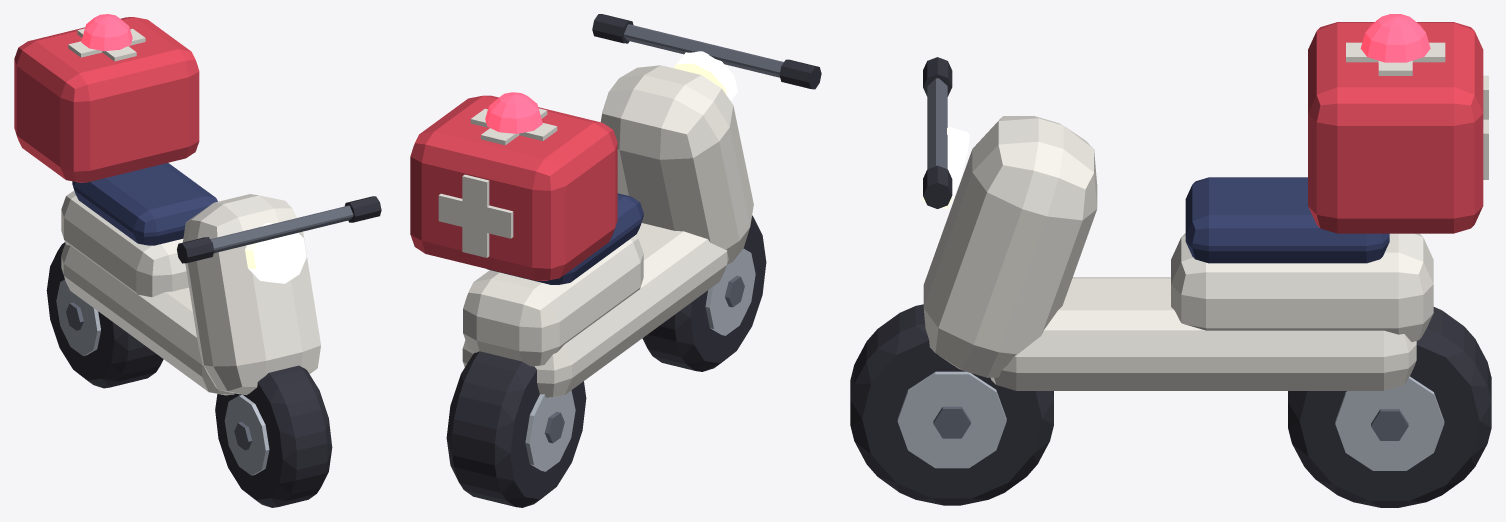
The model's file is veh_moto_medic.glb.
3 renders of one model, left to right at view 1: azimuth 30°, elevation 25°; view 2: azimuth 150°, elevation 25°; view 3: azimuth 270°, elevation 25°, orthographic. The views are drawn at different scales.
Parts seen in each view (by area): view 1: veh_moto_medic, wheel_f, wheel_r, siren_l; view 2: veh_moto_medic, wheel_r, wheel_f, siren_l; view 3: veh_moto_medic, wheel_f, wheel_r, siren_l.
Part boxes in pixels (bbox=[...]): veh_moto_medic: bbox=[14, 17, 381, 395]; wheel_f: bbox=[215, 365, 332, 507]; wheel_r: bbox=[46, 242, 163, 388]; siren_l: bbox=[81, 14, 132, 51]; veh_moto_medic: bbox=[410, 14, 821, 397]; wheel_r: bbox=[446, 351, 586, 507]; wheel_f: bbox=[642, 215, 766, 371]; siren_l: bbox=[485, 92, 542, 133]; veh_moto_medic: bbox=[922, 22, 1488, 390]; wheel_f: bbox=[850, 304, 1053, 505]; wheel_r: bbox=[1288, 307, 1491, 507]; siren_l: bbox=[1360, 14, 1430, 62].
Size of the model in its own units: 1.02 by 1.81 by 2.2.
